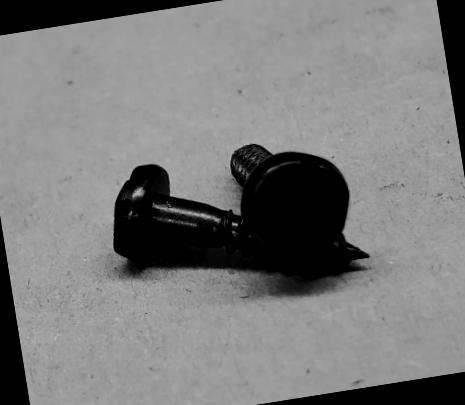slotted: (236, 143, 356, 267)
